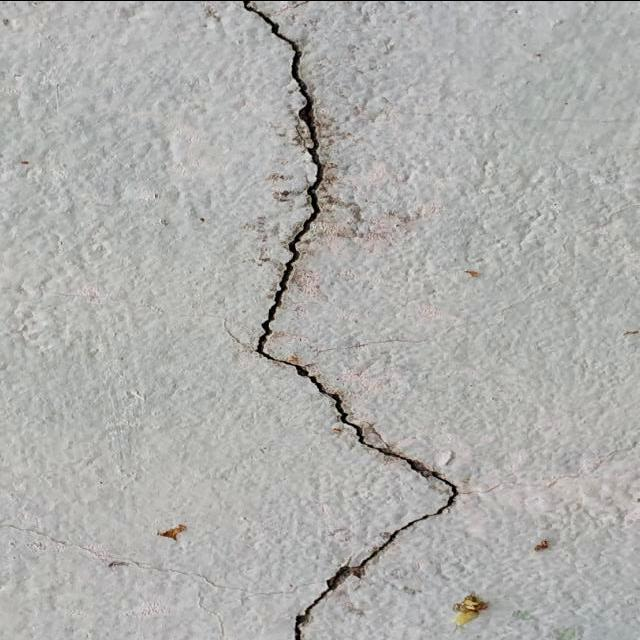SurfaceCrack: (207, 0, 490, 606)
